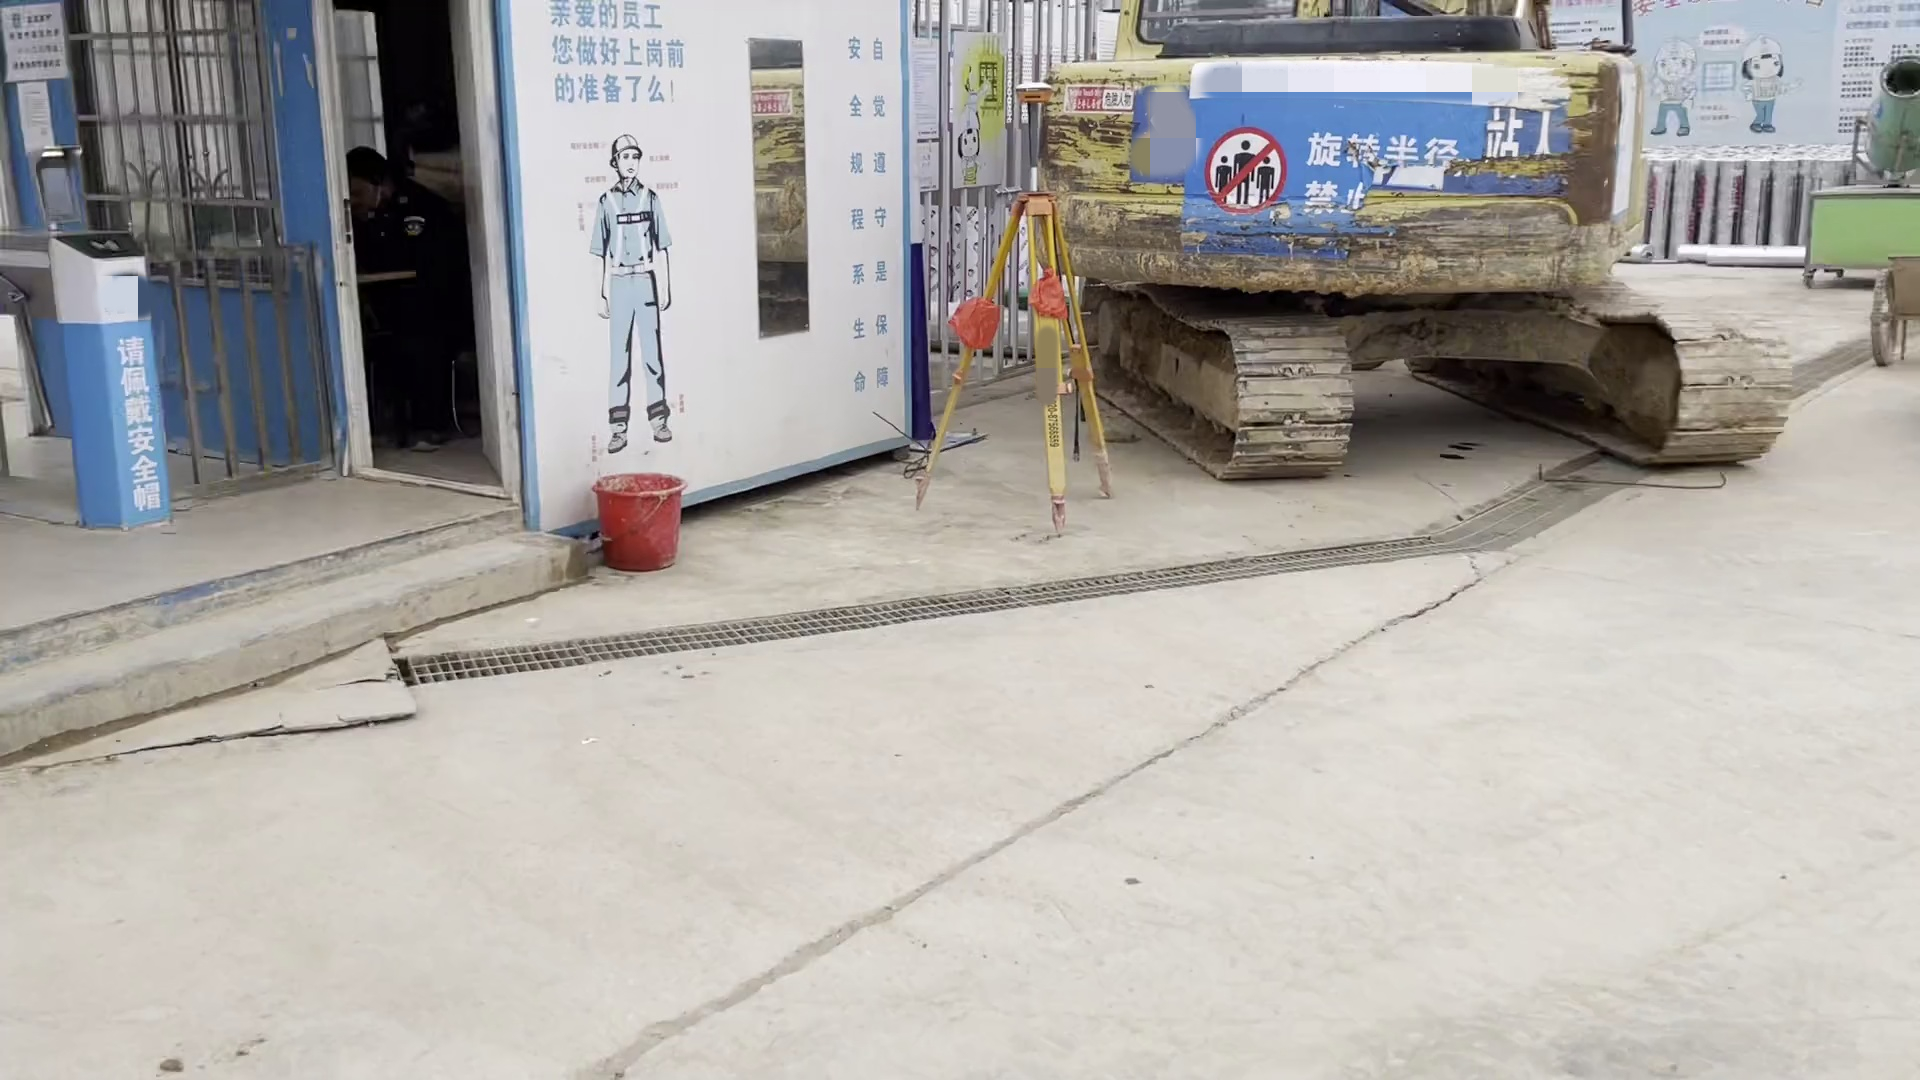slogan: (1195, 99, 1495, 222), (78, 313, 160, 535)
